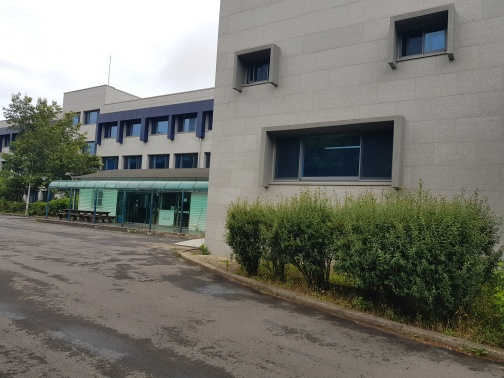College of Social Sciences: (57, 5, 499, 253), (83, 78, 229, 238), (92, 104, 209, 150)
